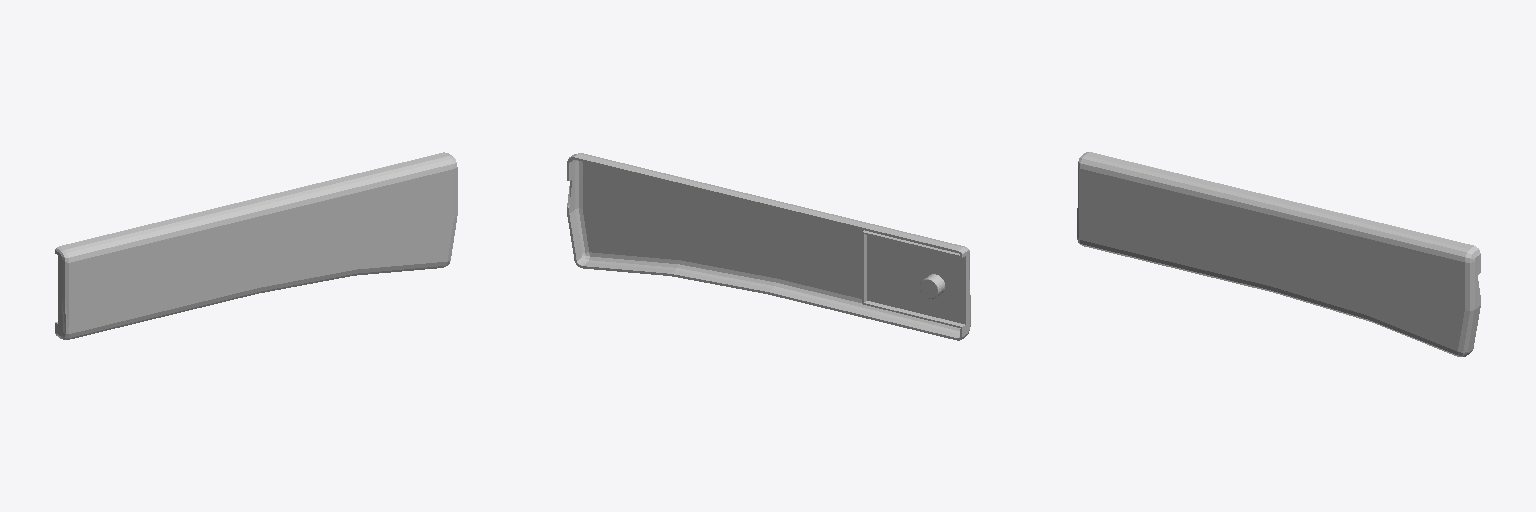
File: knife_handle_L.obj
3 renders of one model, left to right at view 1: azimuth 30°, elevation 25°; view 2: azimuth 150°, elevation 25°; view 3: azimuth 330°, elevation 25°, orthographic.
Visible parts, largest first — view 1: Cube.003; view 2: Cube.003; view 3: Cube.003.
Part boxes in pixels (left/top/right/bottom): Cube.003: left=55, top=152, right=457, bottom=339; Cube.003: left=567, top=153, right=970, bottom=340; Cube.003: left=1077, top=152, right=1480, bottom=356.
Bounding box in the file's own units: 142 × 37.41 × 8.46.